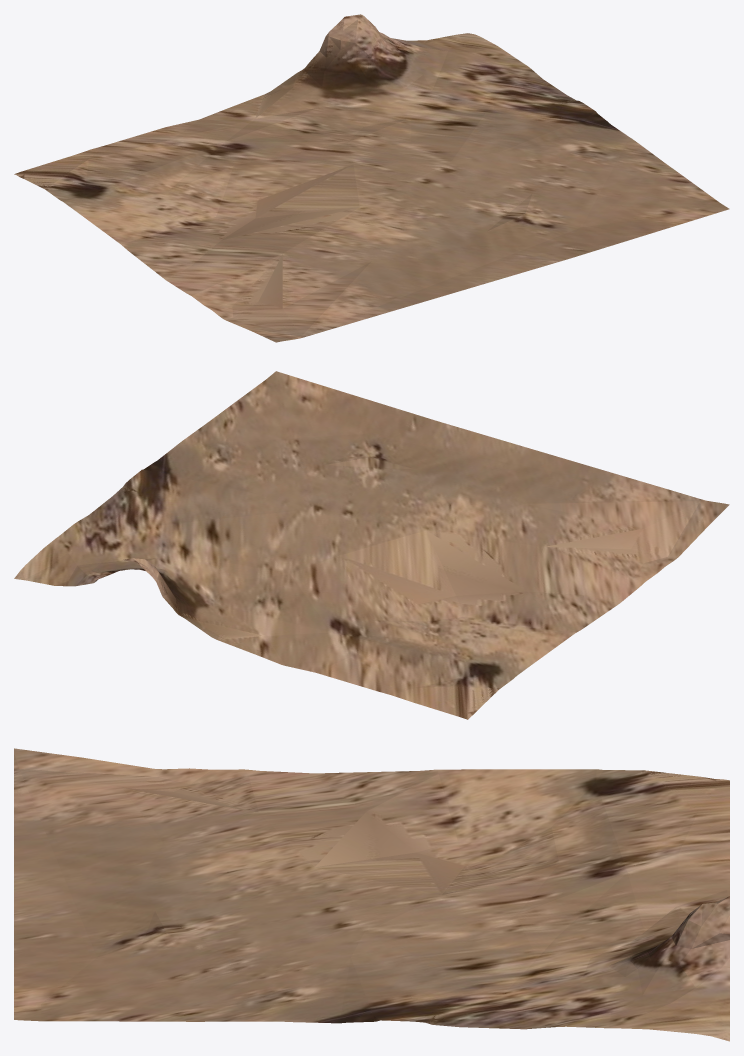
3 views of the same model, one above another, from view 1: azimuth 30°, elevation 25°; view 2: azimuth 150°, elevation 25°; view 3: azimuth 270°, elevation 25° (orthographic). The views are drawn at different scales.
Bounding box in the file's own units: 2.09 × 0.3376 × 2.09.
3 materials, 3 textured.
